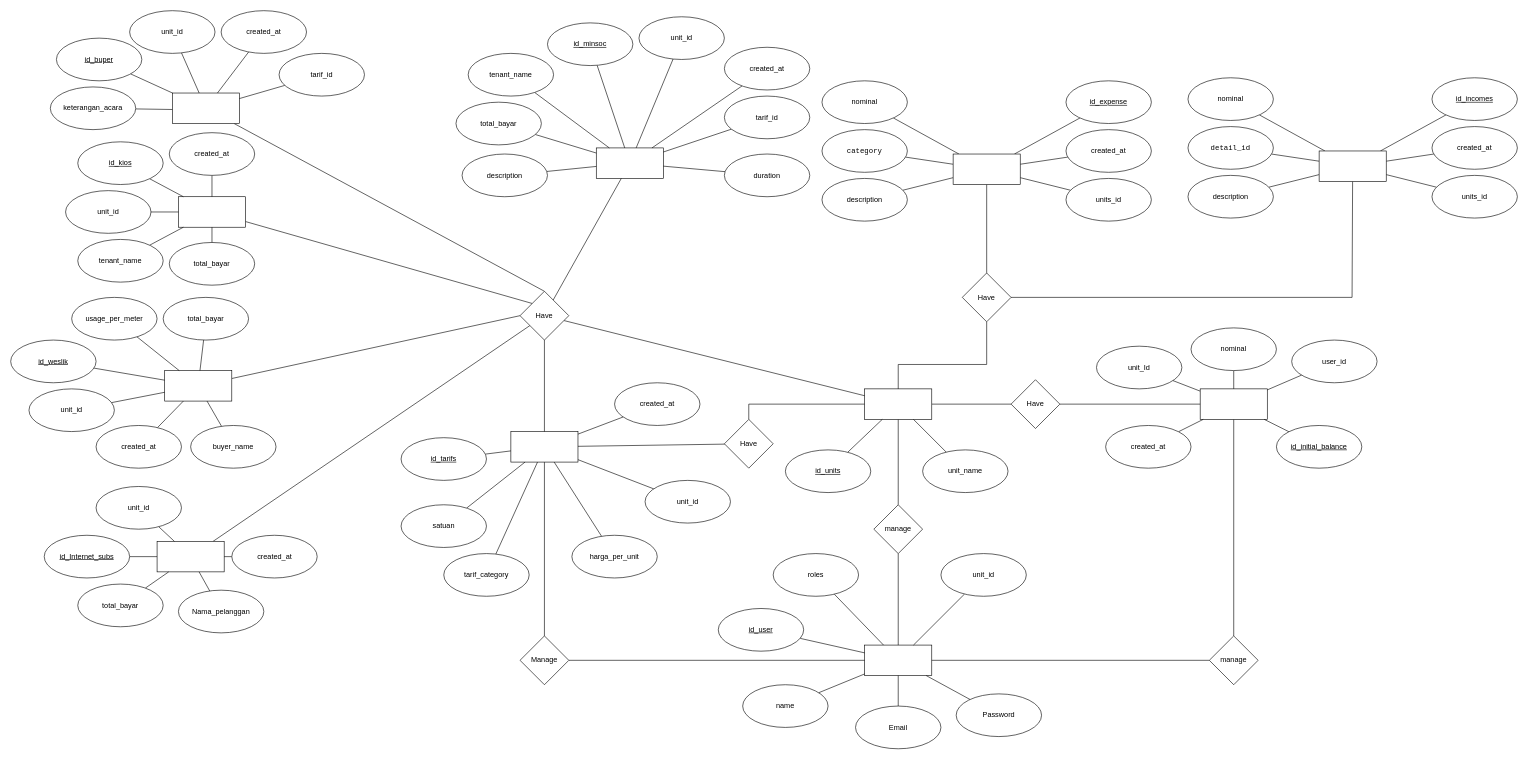
This 1528x759 diagram has some shape labels left out. Here are the shapes that lost their labels. From the top down, the centre of each, then its label:
[205,108]: Buper_Rents
[629,162]: mini_soccer_rent
[986,169]: expense
[1352,165]: Incomes
[212,211]: Kios_Rents
[198,385]: weslk_rents
[898,403]: units
[1233,403]: initial_balance
[544,446]: Tarifs
[190,556]: Internet Subscriptions
[898,660]: Users
